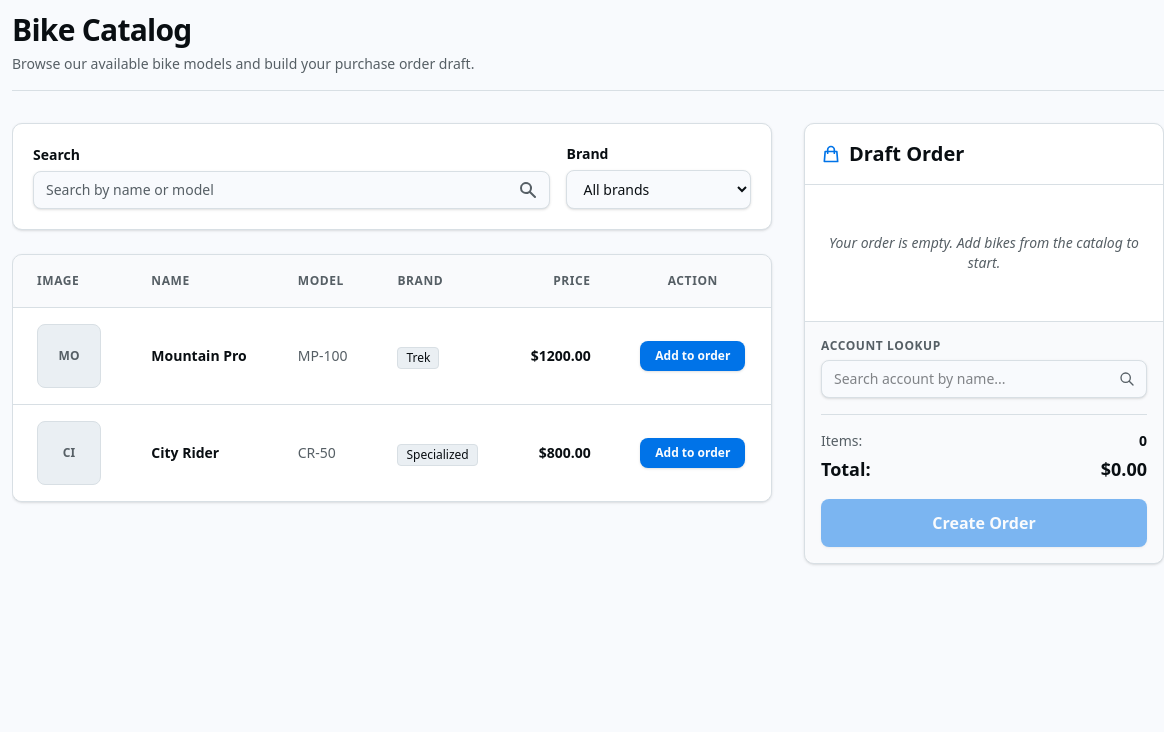
Scenario: CatalogPage › filters bikes by brand
The image size is (1164, 732).
Select "Specialized" in the dropdown labelled "Brand" at {"x": 659, "y": 190}, box [566,170,751,209]
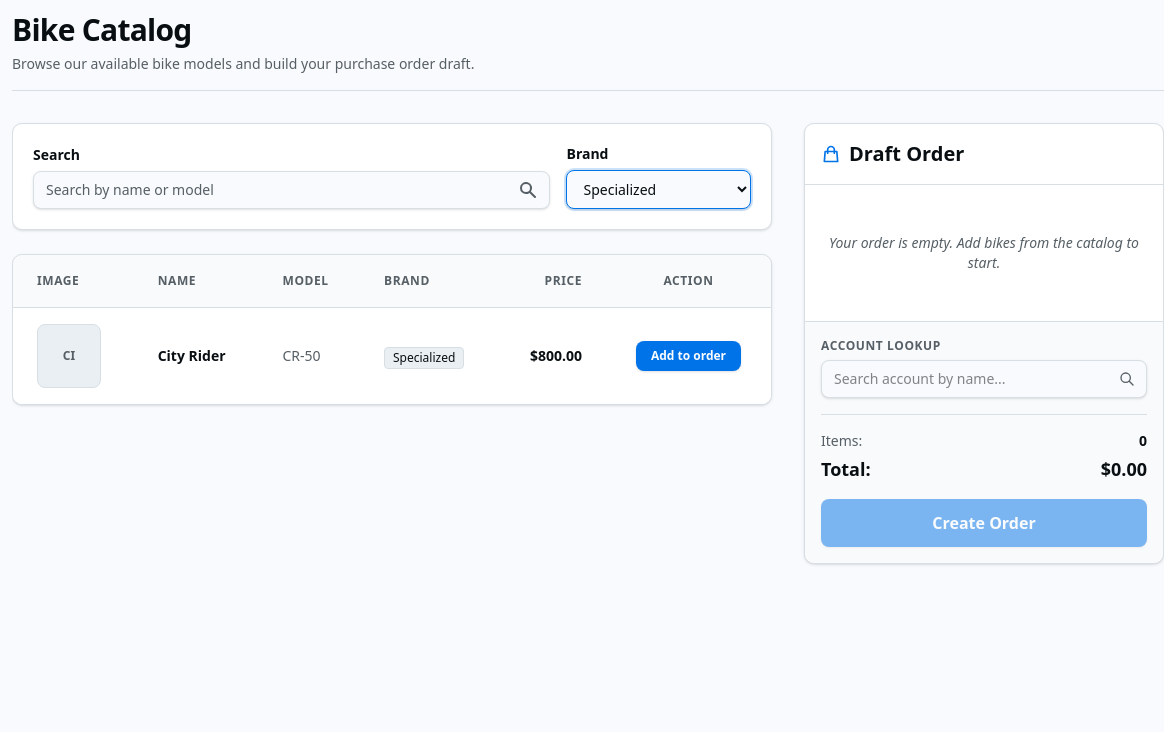
Expected: the text "City Rider" is shown, [158,346,234,366]
Result: the text "Mountain Pro" is gone
